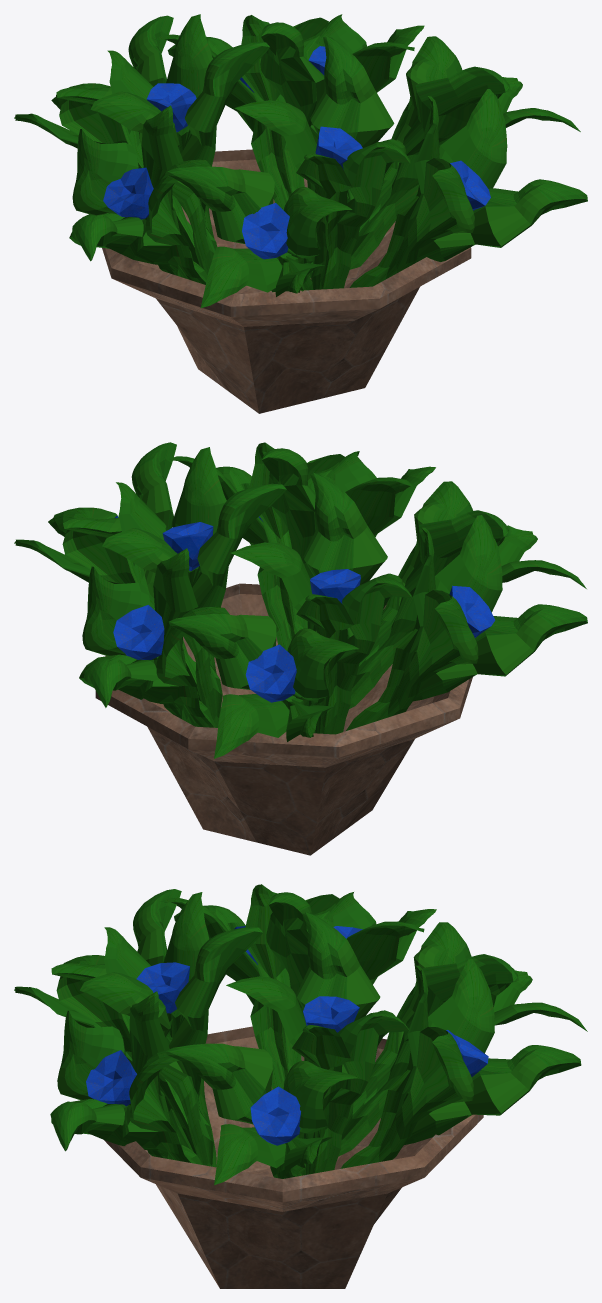
Rendered from VasoFlores_Azul.fbx.
The picture shows the model from 3 angles, top to bottom: view 1: azimuth 30°, elevation 25°; view 2: azimuth 150°, elevation 25°; view 3: azimuth 270°, elevation 25°; orthographic projection. The views are drawn at different scales.
Parts seen in each view (by area): view 1: Folhas, Vaso, Flores; view 2: Folhas, Vaso, Flores; view 3: Folhas, Vaso, Flores.
Part boxes in pixels (box(x1,y1,x2,y2)): Folhas: box(14, 14, 587, 307); Vaso: box(102, 149, 471, 413); Flores: box(103, 46, 490, 259); Folhas: box(14, 442, 587, 758); Vaso: box(95, 583, 472, 855); Flores: box(113, 515, 495, 702); Folhas: box(14, 884, 587, 1185); Vaso: box(104, 1026, 483, 1288); Flores: box(86, 926, 488, 1145).
Bounding box in the file's own units: 96.49 × 62.13 × 91.73.
3 materials, 3 textured.
